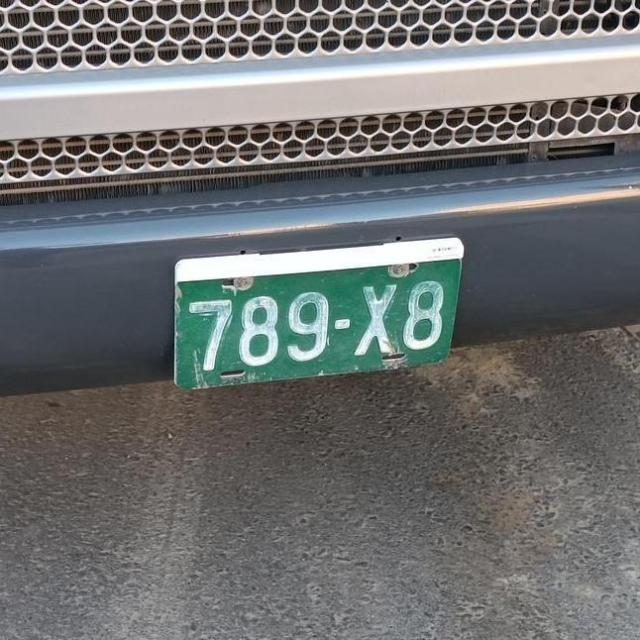GW: (157, 228, 470, 409)
W: (0, 0, 480, 103)
